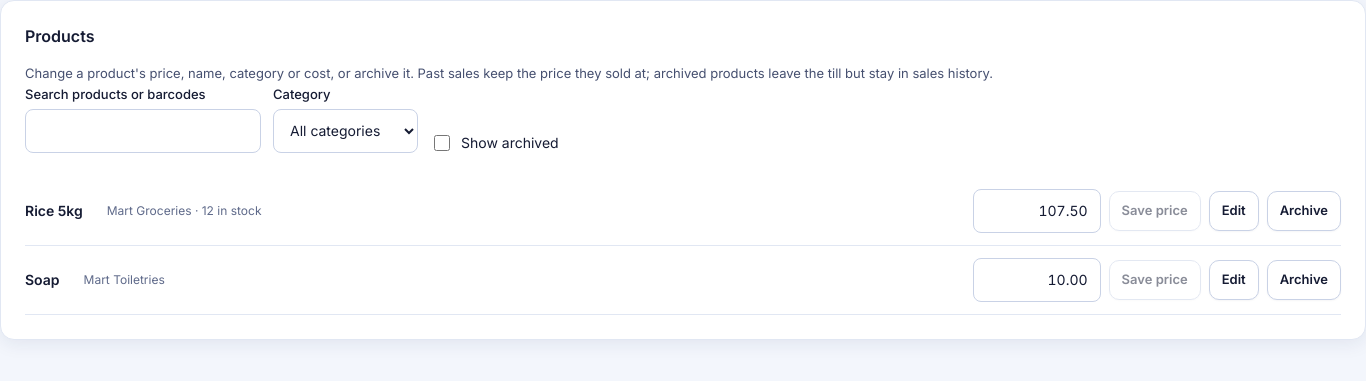
Test case: <ProductsCard> › shows the server's reason and keeps the old price when a price change is refused
Replace the text in the field named "Price for Rice 5kg" with "99" at (1037, 211), box left=973, top=189, right=1101, bottom=233
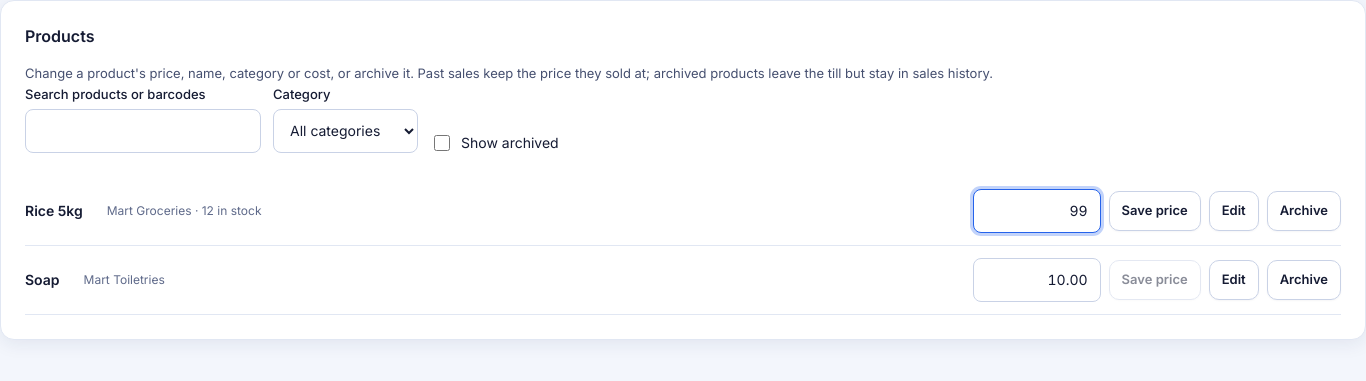
Click the button with aria-label "Save price for Rice 5kg" at (1155, 211), box left=1109, top=191, right=1201, bottom=231
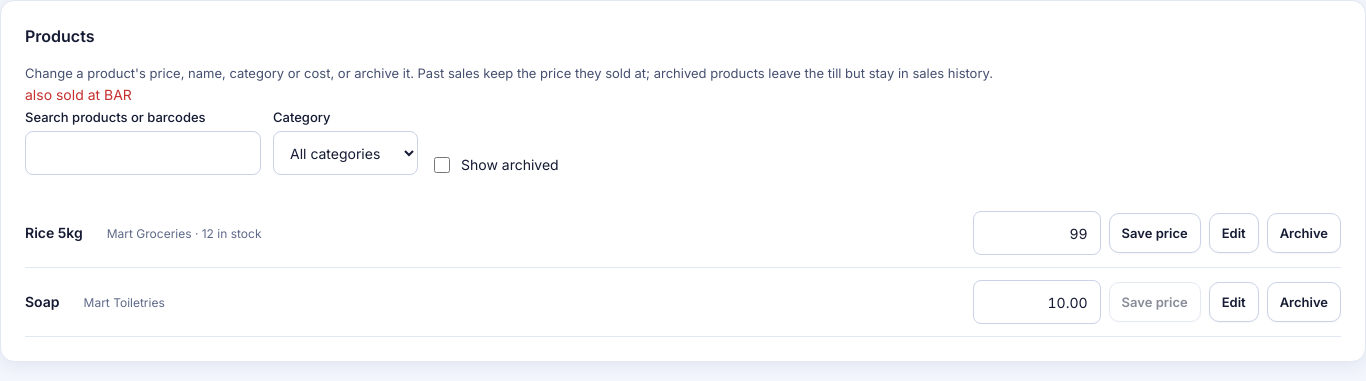
Expected: the message reads "also sold at BAR", left=25, top=86, right=132, bottom=103
